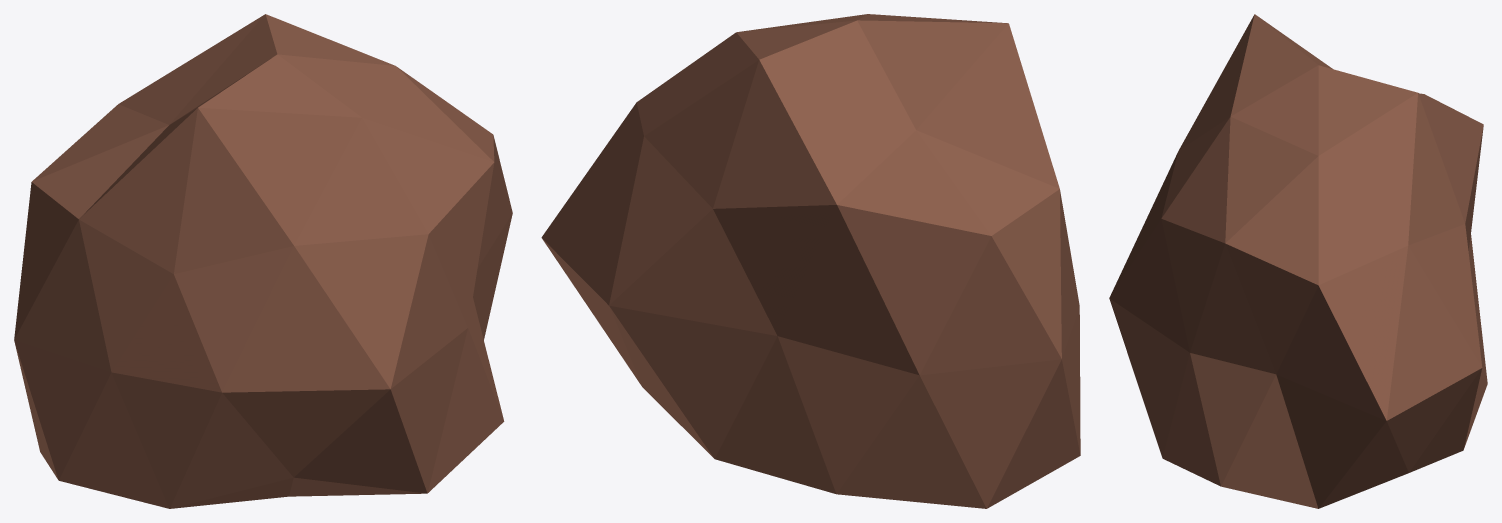
File: cinder1.glb
3 views of the same model, side by side, from view 1: azimuth 30°, elevation 25°; view 2: azimuth 150°, elevation 25°; view 3: azimuth 270°, elevation 25° (orthographic). The views are drawn at different scales.
Parts seen in each view (by area): view 1: cinder1; view 2: cinder1; view 3: cinder1.
Boxes of the visible parts, x1=… form: cinder1: x1=14, y1=14, x2=512, y2=508; cinder1: x1=541, y1=14, x2=1080, y2=508; cinder1: x1=1109, y1=14, x2=1487, y2=508.
Size of the model in its own units: 3.89 by 2.9 by 2.73.
